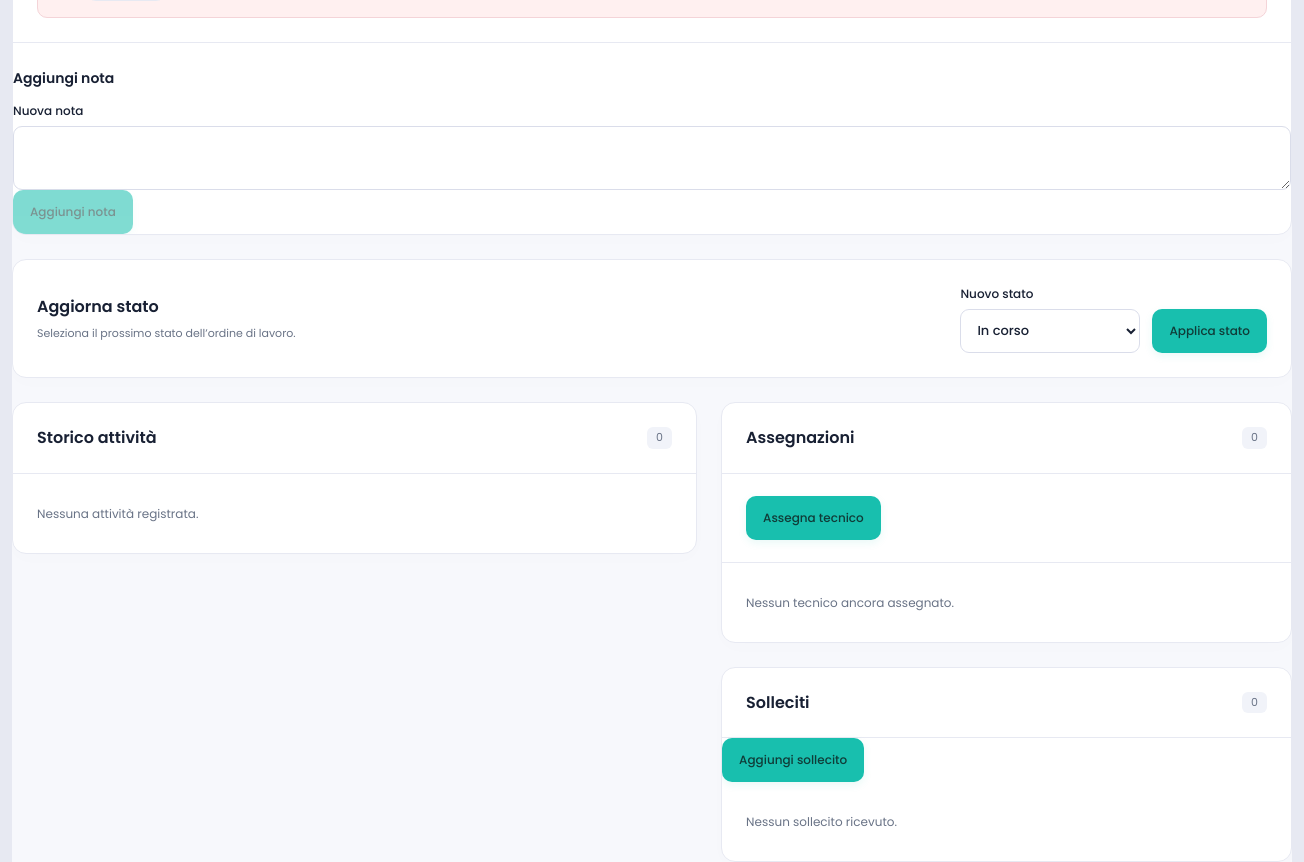
starts once, refreshes history and shows the pending technician without a WebSocket event
(page scrolled)
Click the button "Assegna tecnico" at (813, 518), box [746,496,881,540]
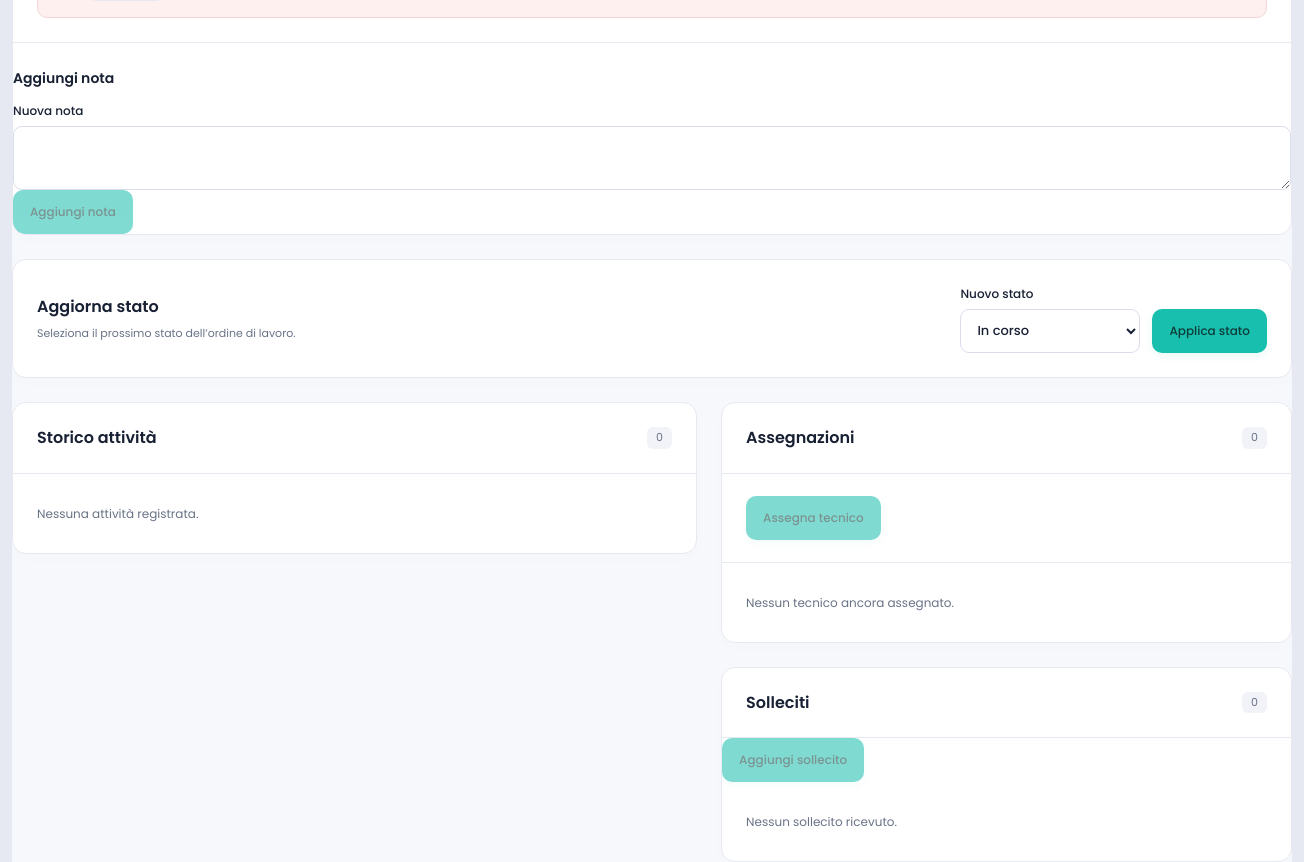
Check: the button "Assegna tecnico" is disabled
Click the button "Assegna tecnico" at (813, 518), box [746,496,881,540]
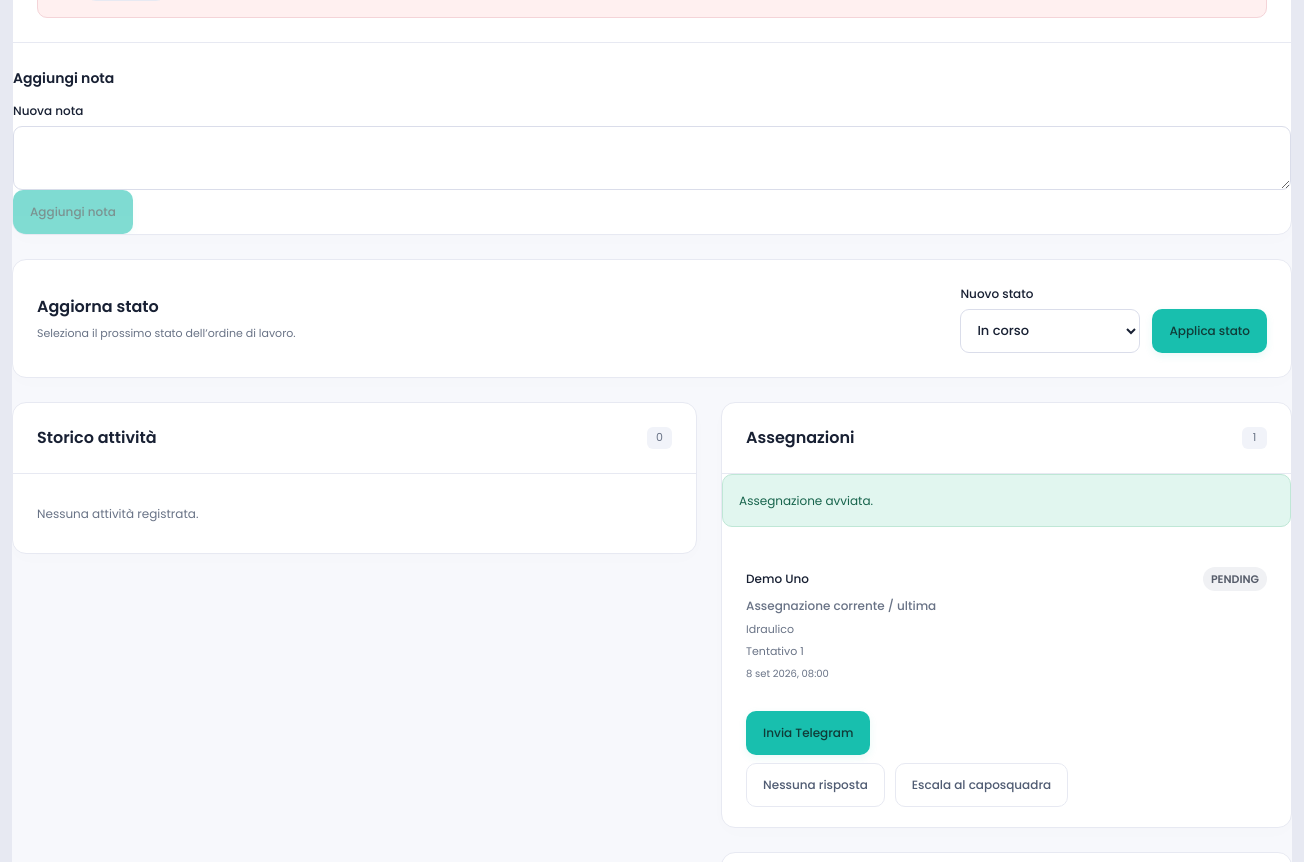
Check: the text "Demo Uno" is shown, box [746,569,809,589]
Check: the text "PENDING" is shown, box [1203,567,1267,591]
Check: the text "Assegnazione avviata." is shown, box [722,474,1291,527]
